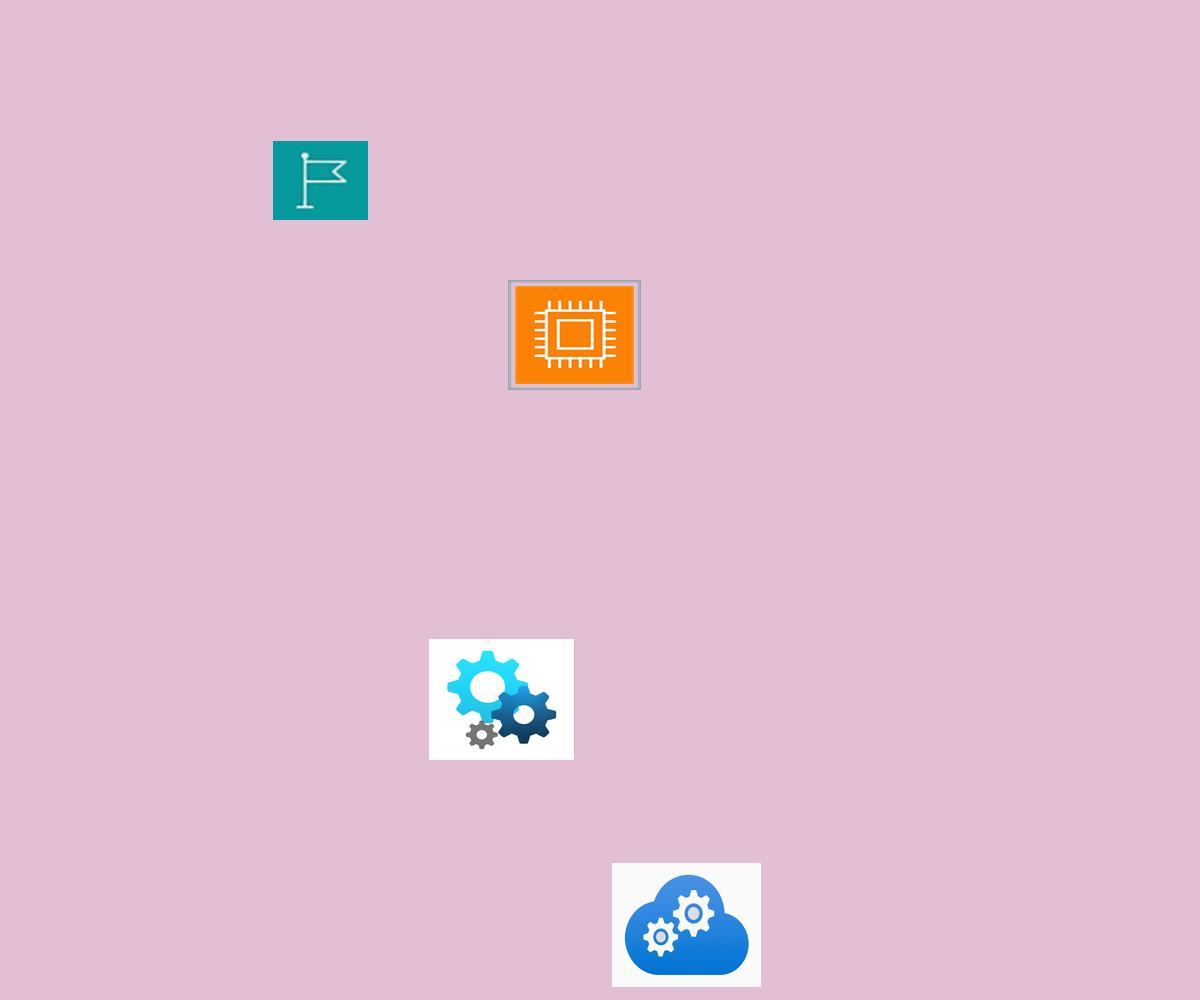AWS-Category_Compute: (508, 280, 641, 390)
AWS-Region: (273, 141, 368, 220)
Azure_api: (429, 639, 574, 760)
Azure_cloud_services: (612, 863, 761, 987)
